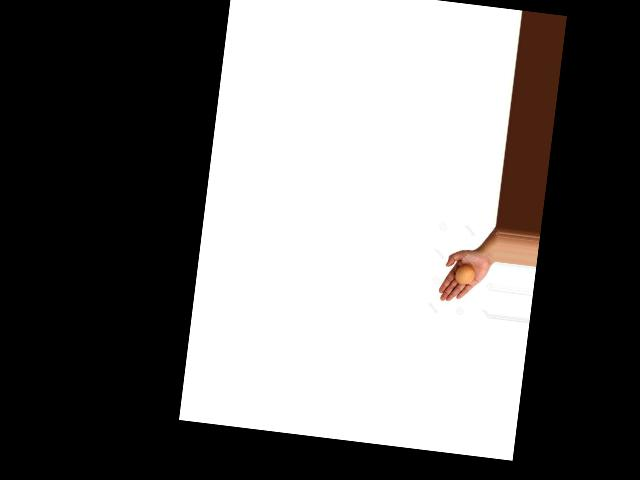egg: (454, 262, 476, 285)
